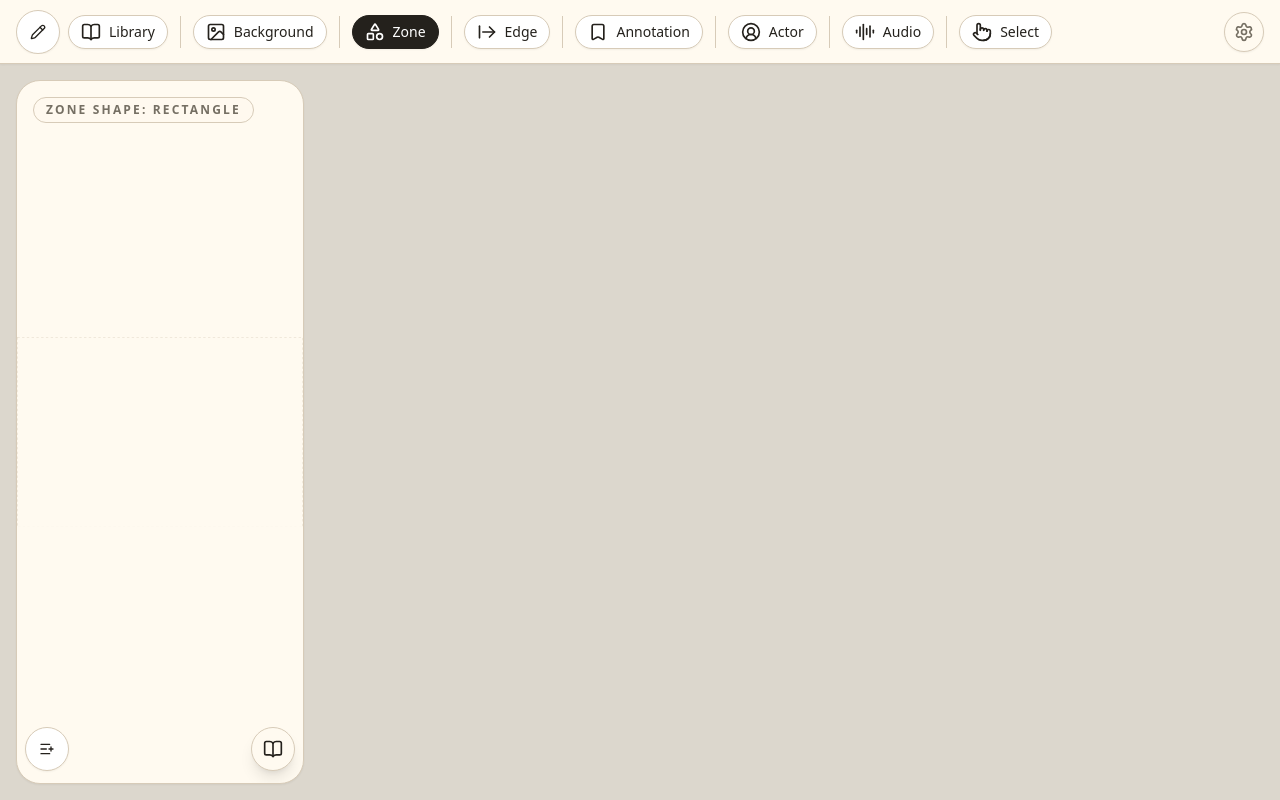
it: responsive workspace › shows the encounter name after holding the compact toolbar rename button
Press the mouse on the button named "Rename encounter Untitled Encounter" at (38, 32), box [16,10,60,54]
Wait 500 ms
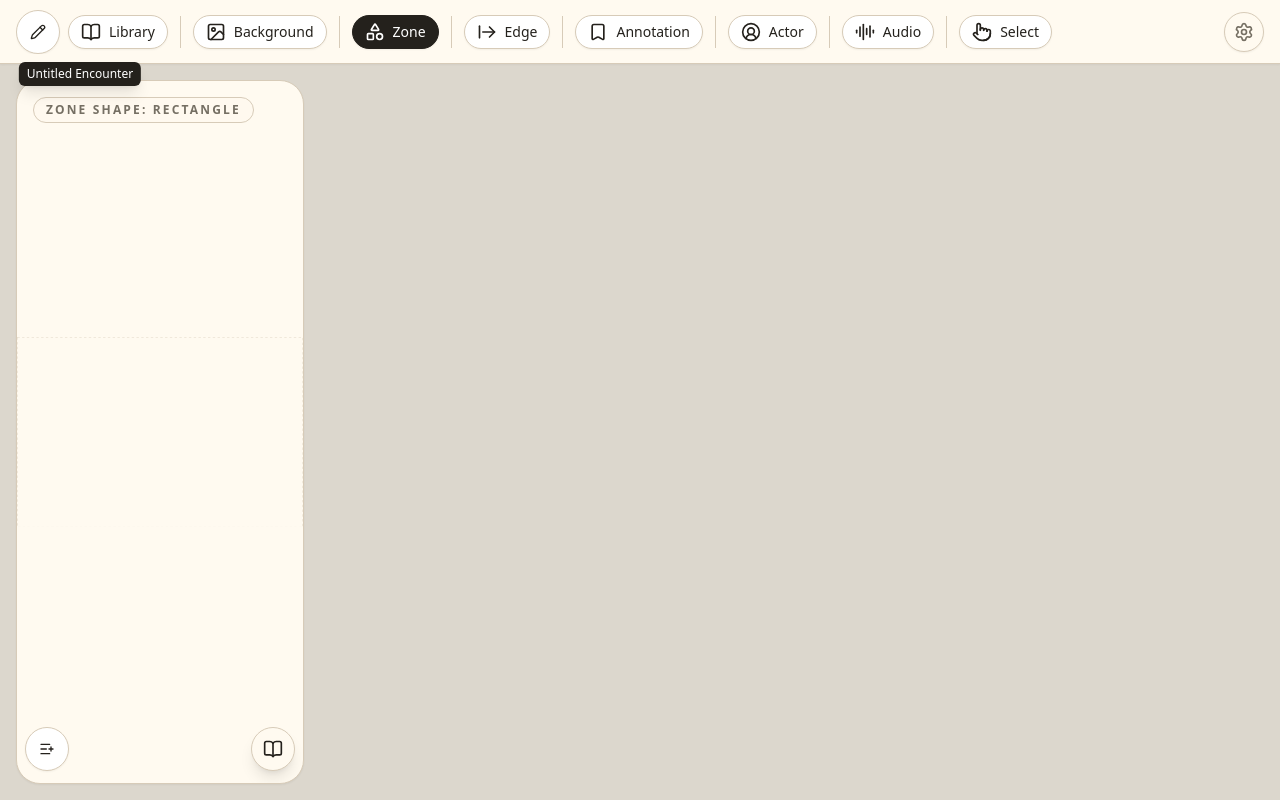
Expected: the tooltip reads "Untitled Encounter", [27,64,133,82]
